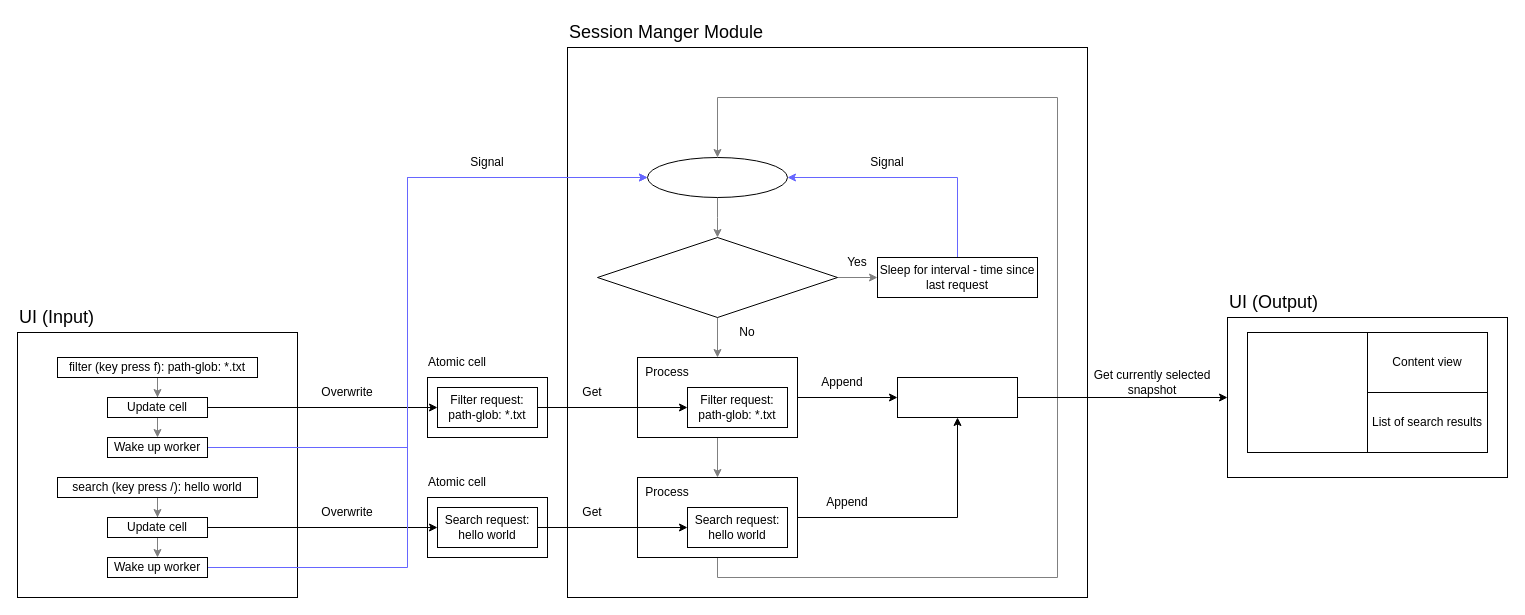
Image size: 1525x615. Some labels were removed from this diagram. Each missing label, with the centre of its shape:
List of usable documents: point 1307,392
Sleep until signal: point 717,177
Snapshots: point 957,397
Time since last request < debounce interval?: point 717,277
